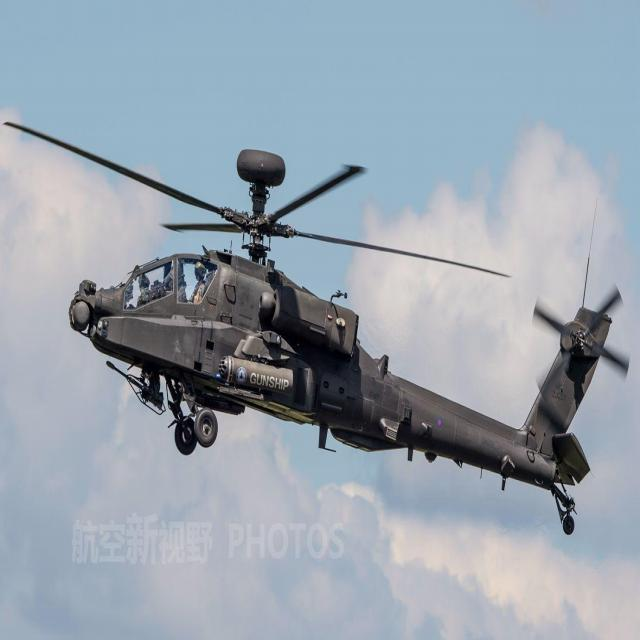MIL_HELO: (17, 89, 625, 543)
